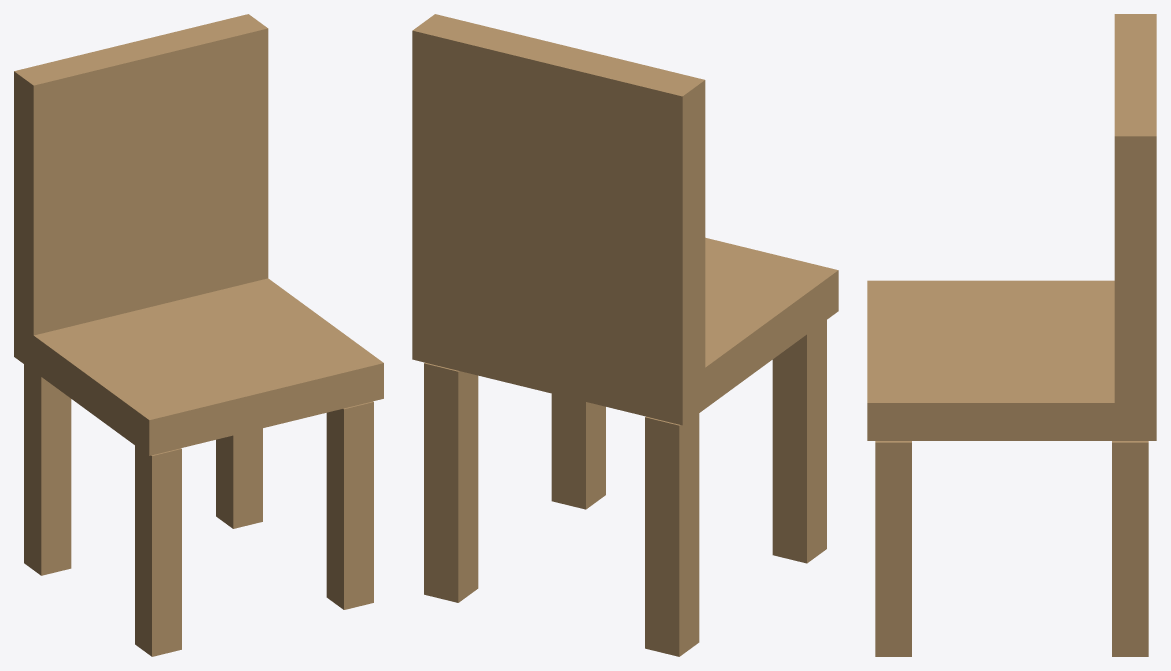
File: reading_chair.glb
3 renders of one model, left to right at view 1: azimuth 30°, elevation 25°; view 2: azimuth 150°, elevation 25°; view 3: azimuth 270°, elevation 25°, orthographic. The views are drawn at different scales.
Bounding box in the file's own units: 1.1 × 2.2 × 1.1.
